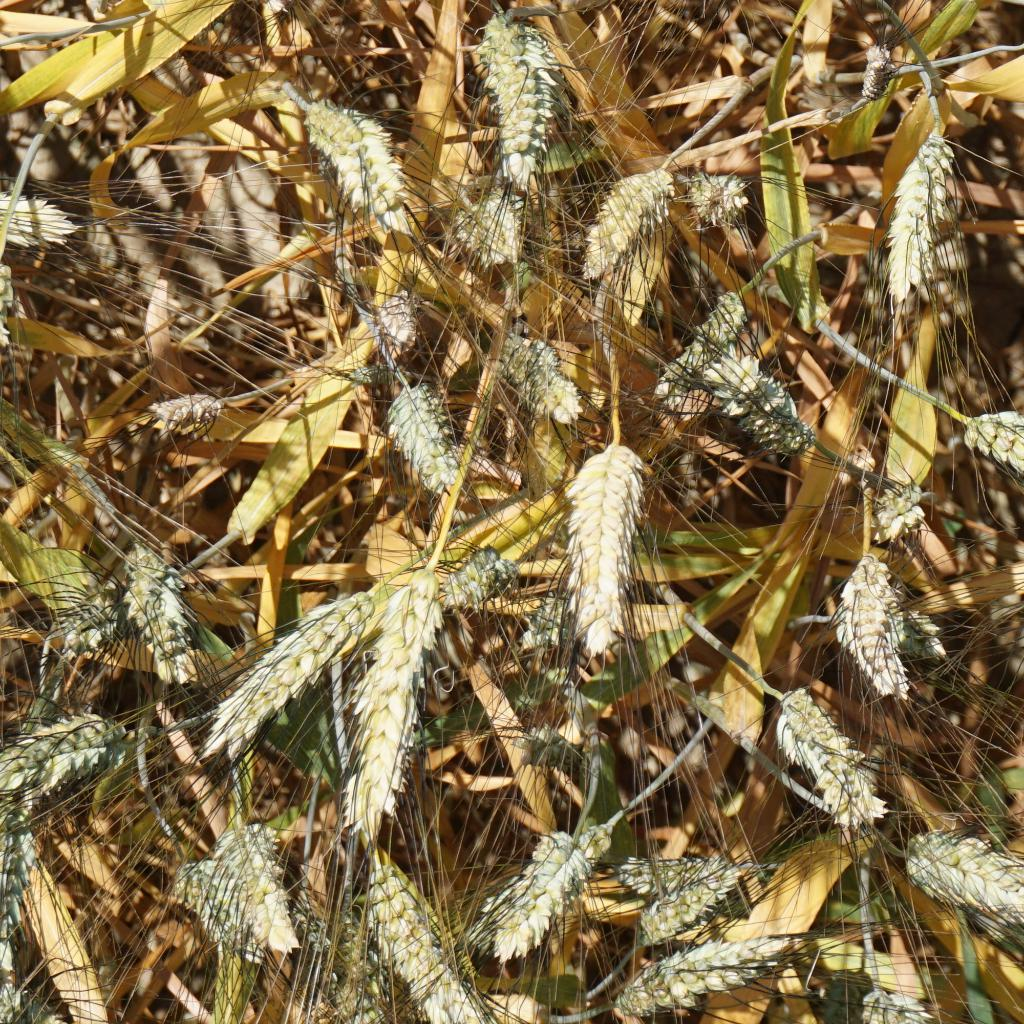0-0: (551, 423, 651, 659), (208, 581, 354, 732), (362, 570, 439, 837), (460, 0, 565, 188), (868, 125, 972, 303), (366, 852, 468, 1024), (779, 675, 889, 828), (907, 825, 1024, 965), (297, 86, 409, 226), (616, 919, 783, 1012), (465, 817, 563, 969), (123, 545, 214, 681), (214, 821, 305, 954), (709, 352, 811, 456), (584, 155, 667, 279), (848, 555, 919, 687), (949, 401, 1024, 525), (388, 377, 466, 494), (630, 854, 740, 933), (608, 825, 734, 891), (525, 799, 612, 891), (661, 295, 734, 401), (46, 565, 118, 671), (0, 710, 106, 779), (0, 157, 72, 258), (449, 179, 523, 269), (175, 854, 240, 951), (514, 334, 572, 421), (149, 377, 220, 446), (681, 149, 740, 232), (441, 547, 507, 618), (864, 472, 925, 545), (851, 975, 937, 1024), (856, 39, 904, 104), (374, 281, 415, 346), (243, 0, 317, 25), (709, 0, 754, 13)
